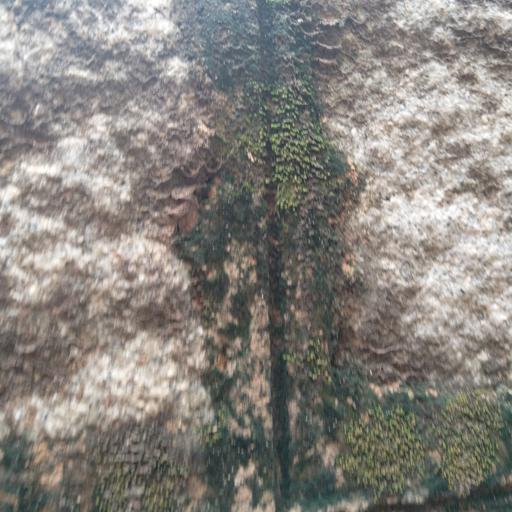algae: (98, 0, 512, 512)
